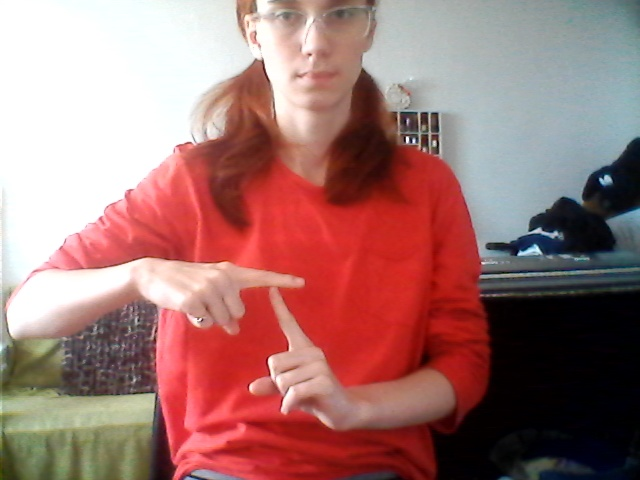t: (184, 252, 344, 437)
